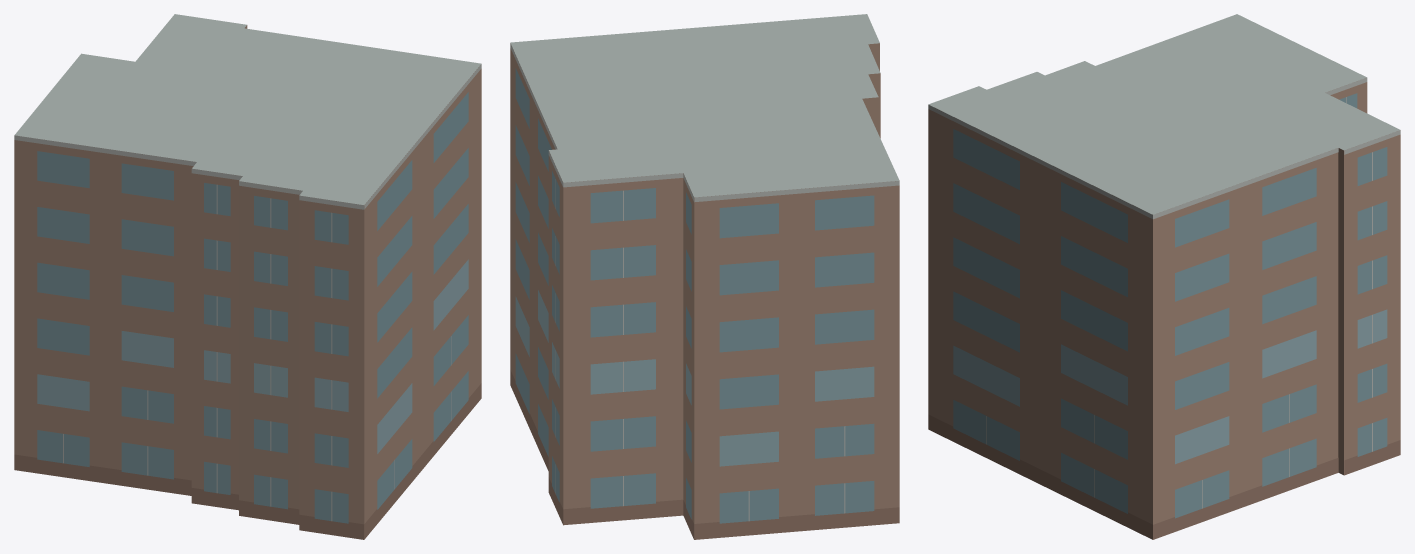
Rendered from survey-upis-32970097.glb.
3 renders of one model, left to right at view 1: azimuth 30°, elevation 25°; view 2: azimuth 150°, elevation 25°; view 3: azimuth 270°, elevation 25°, orthographic. The views are drawn at different scales.
Visible parts, largest first — view 1: survey-upis-32970097.tmp; view 2: survey-upis-32970097.tmp; view 3: survey-upis-32970097.tmp.
Boxes of the visible parts, x1=… form: survey-upis-32970097.tmp: x1=14, y1=14, x2=481, y2=539; survey-upis-32970097.tmp: x1=510, y1=14, x2=899, y2=539; survey-upis-32970097.tmp: x1=928, y1=14, x2=1400, y2=539.
Size of the model in its own units: 23.47 by 17.7 by 23.33.
